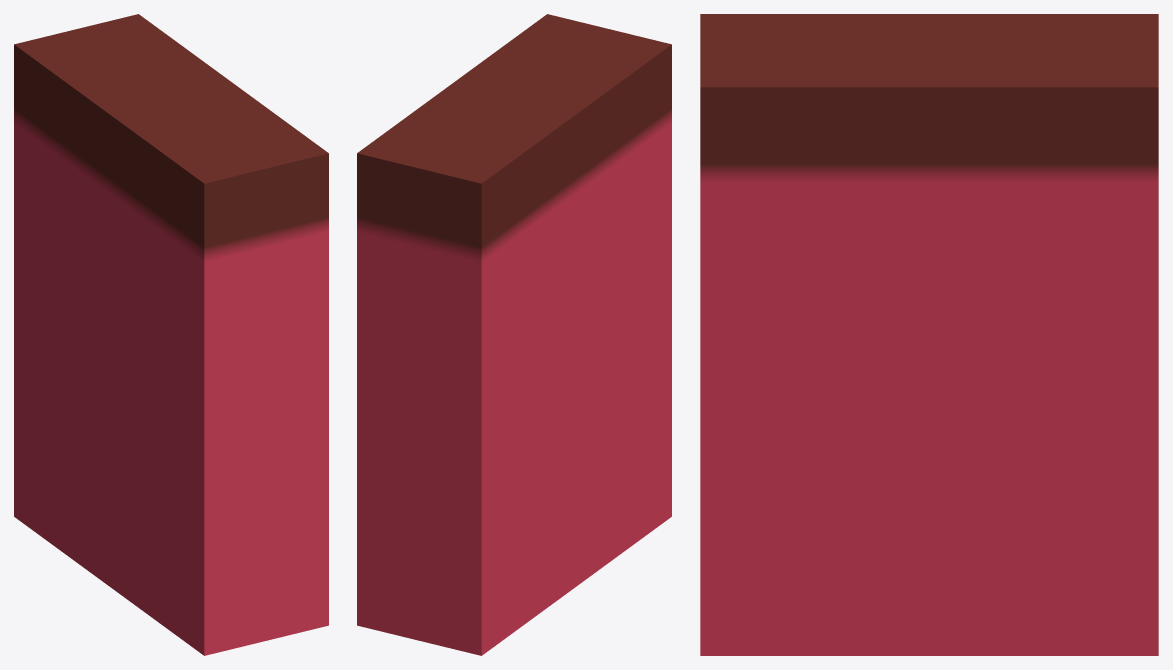
Rendered from Itr_Obj_Book1_01.FBX.
3 views of the same model, side by side, from view 1: azimuth 30°, elevation 25°; view 2: azimuth 150°, elevation 25°; view 3: azimuth 270°, elevation 25° (orthographic). The views are drawn at different scales.
Parts seen in each view (by area): view 1: Itr_Obj_Book1_01; view 2: Itr_Obj_Book1_01; view 3: Itr_Obj_Book1_01.
Part boxes in pixels (x1=…): Itr_Obj_Book1_01: x1=14, y1=14, x2=328, y2=655; Itr_Obj_Book1_01: x1=357, y1=14, x2=671, y2=655; Itr_Obj_Book1_01: x1=700, y1=14, x2=1158, y2=655.
Bounding box in the file's own units: 2.14 × 7.76 × 5.67.
